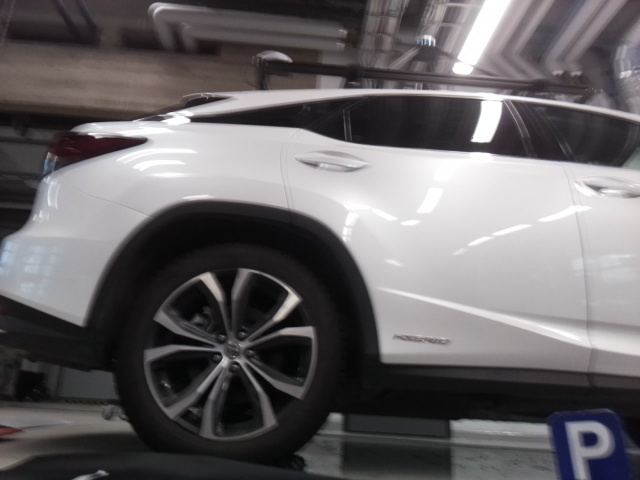Parking: (544, 413, 629, 477)
